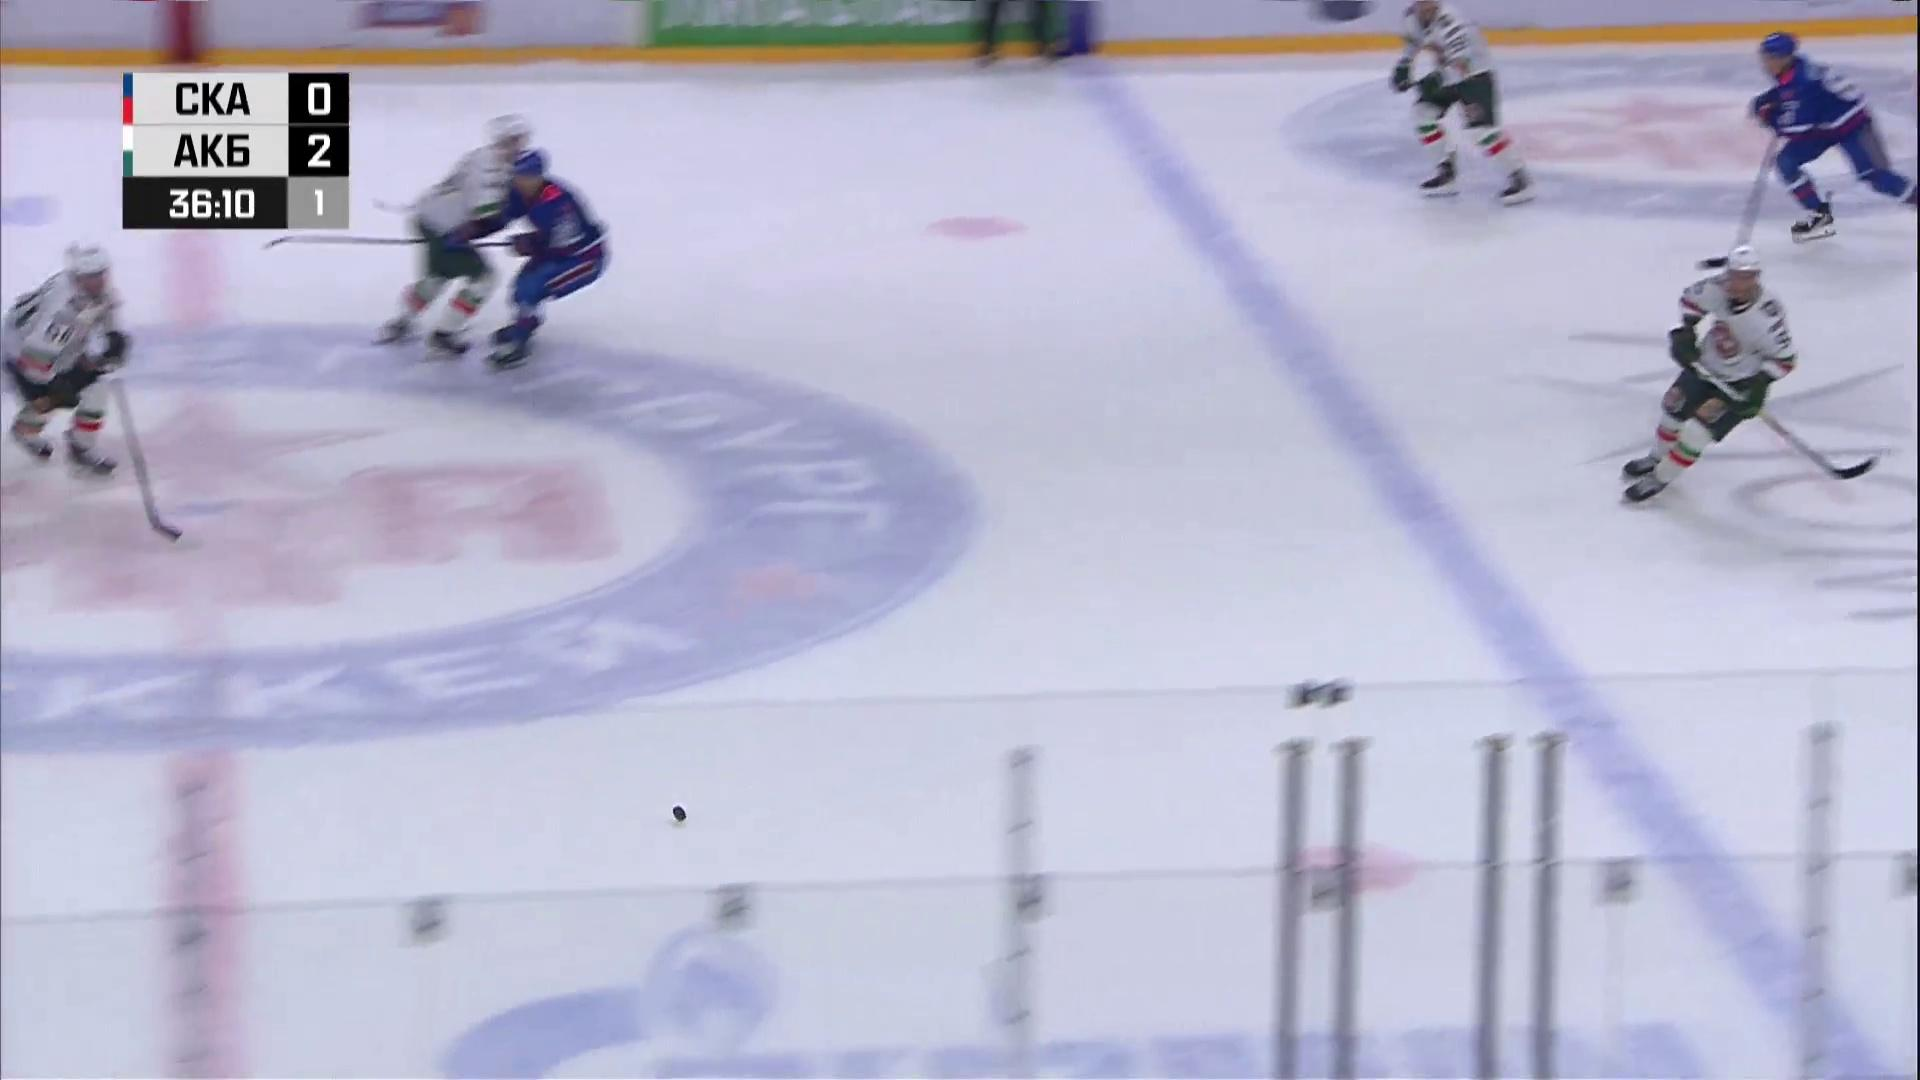ball: (673, 804, 687, 822)
